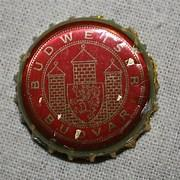metal: (17, 17, 158, 162)
